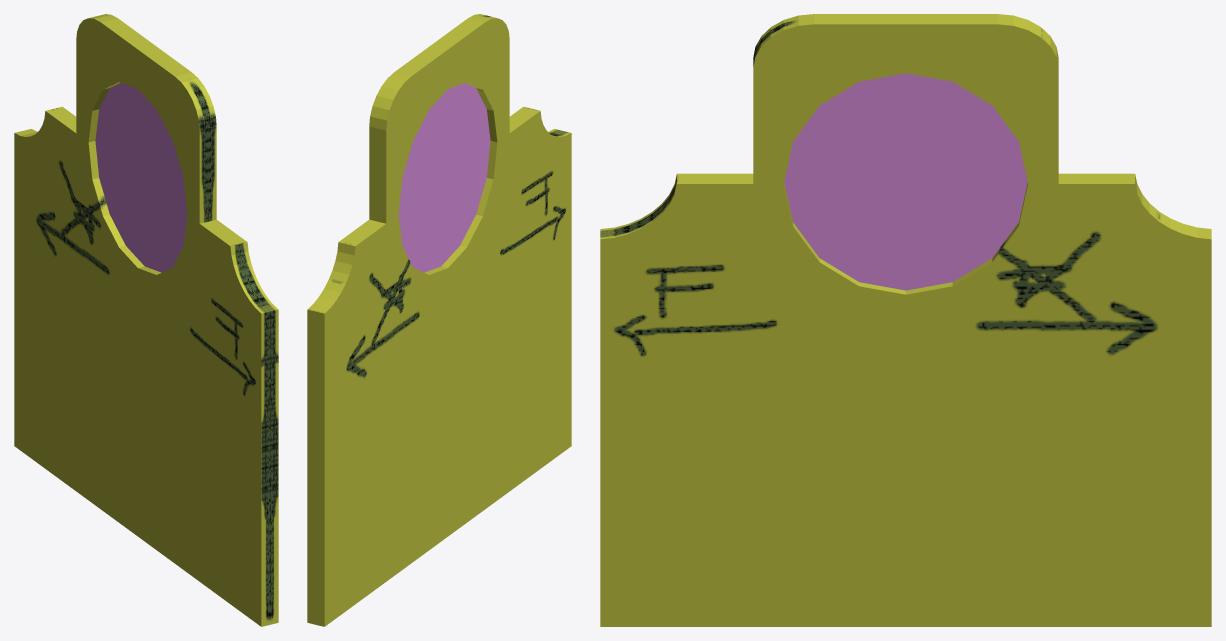
Rendered from wall.fbx.
3 views of the same model, side by side, from view 1: azimuth 30°, elevation 25°; view 2: azimuth 150°, elevation 25°; view 3: azimuth 270°, elevation 25° (orthographic). The views are drawn at different scales.
Parts seen in each view (by area): view 1: WallLowPoly; view 2: WallLowPoly; view 3: WallLowPoly.
Boxes of the visible parts, x1=… form: WallLowPoly: x1=14, y1=14, x2=278, y2=626; WallLowPoly: x1=307, y1=14, x2=571, y2=626; WallLowPoly: x1=600, y1=14, x2=1211, y2=626.
Bounding box in the file's own units: 20 × 544 × 500.
2 materials, 1 textured.
